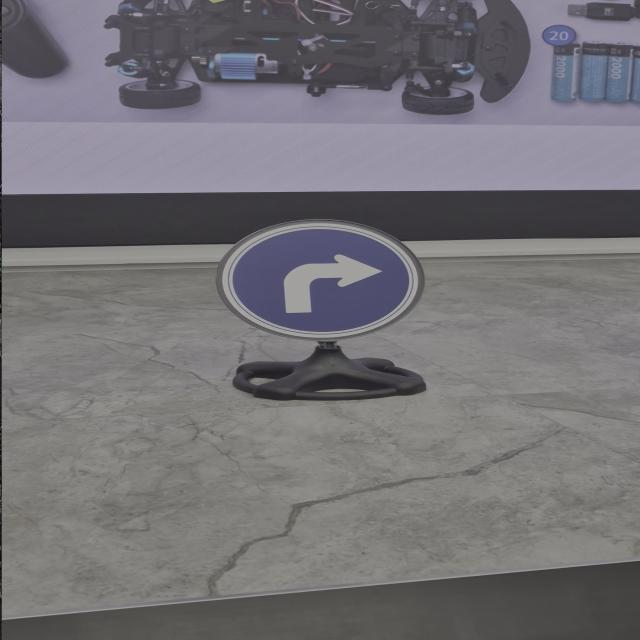right_dierection: (203, 198, 427, 360)
